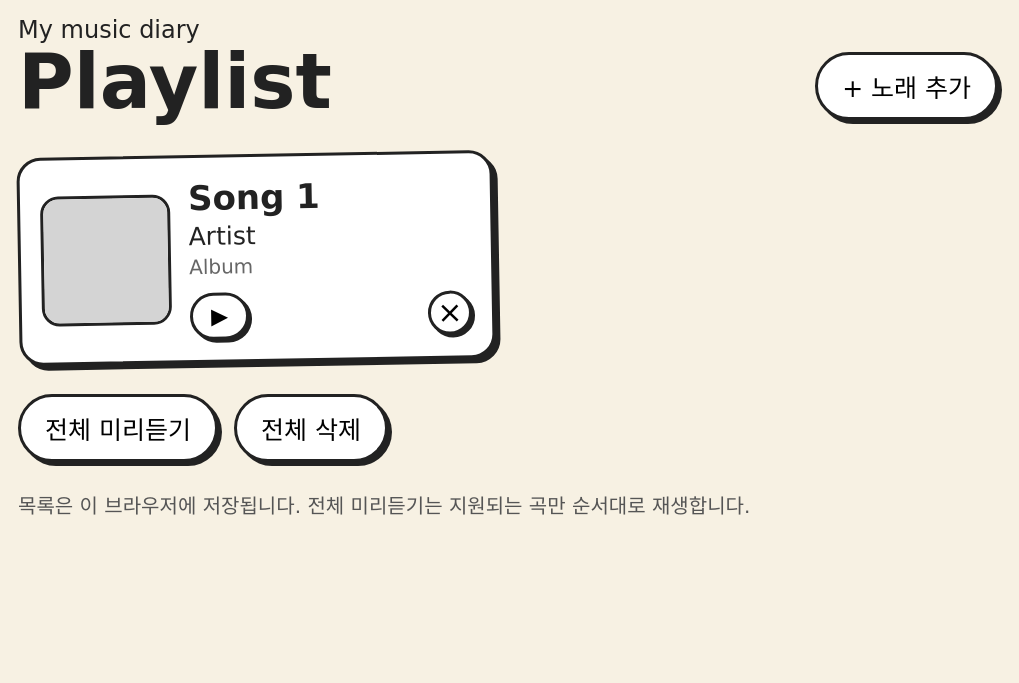
Test: failed write keeps existing screen and data
Click the button named "Song 1 삭제". click: coordinates (450, 312)
box: x1=428 y1=290 x2=472 y2=334
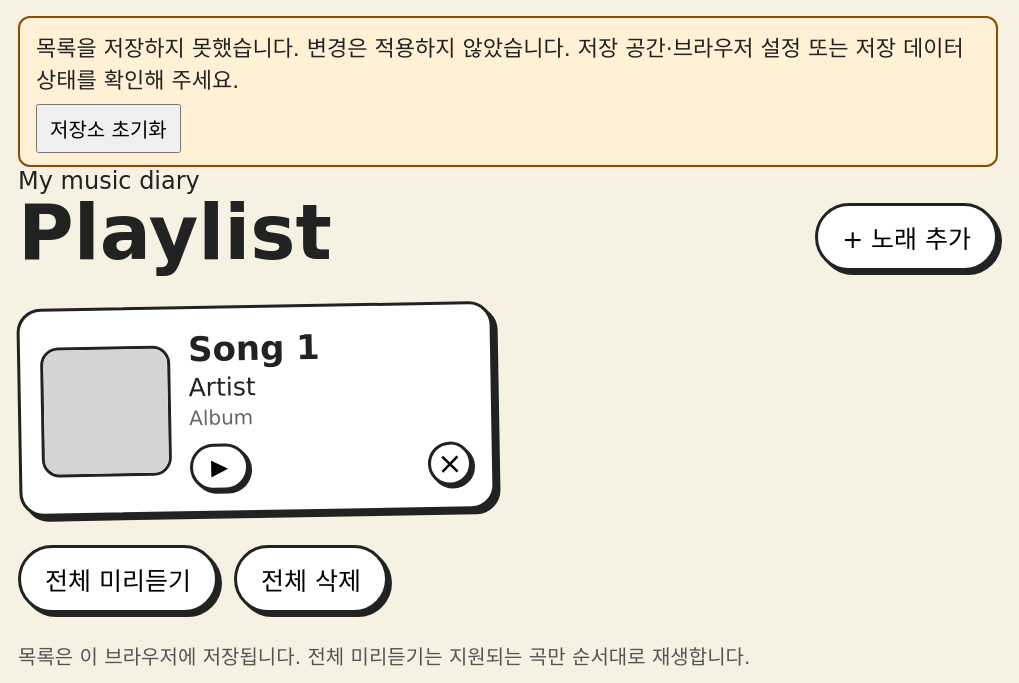
Expected: the heading "Song 1" is shown, x1=188 y1=327 x2=320 y2=369
Expected: the message "목록을 저장하지 못했습니다. 변경은 적용하지 않았습니다. 저장 공간·브라우저 설정 또는 저장 데이터 상태를 확인해 주세요. 저장소 초기화" is shown, x1=18 y1=16 x2=998 y2=167
